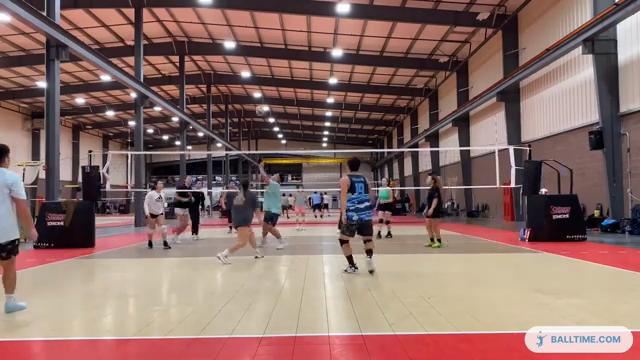Player: (0, 144, 37, 312), (339, 157, 374, 273), (217, 179, 263, 263), (144, 181, 170, 249), (423, 174, 441, 247), (173, 176, 192, 243), (376, 178, 393, 238), (189, 180, 204, 239), (221, 180, 236, 232), (294, 185, 306, 229)
Set: (253, 158, 289, 251)
ball: (255, 104, 265, 118)
